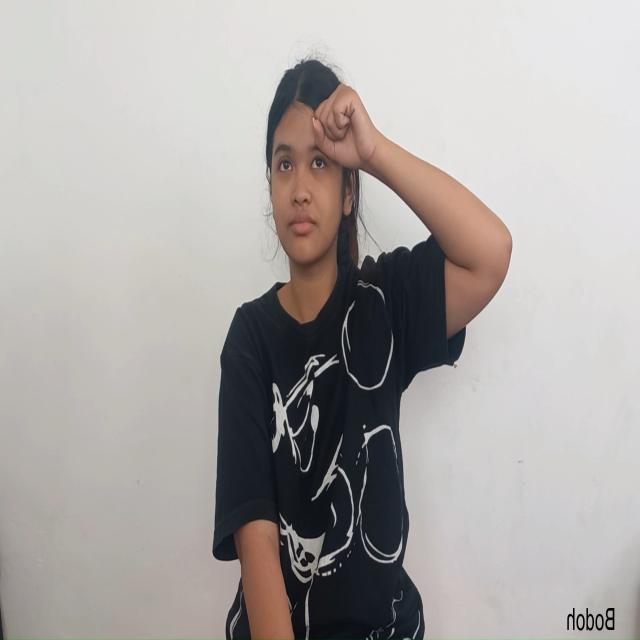Bodoh -BISINDO-: (238, 35, 442, 355)
